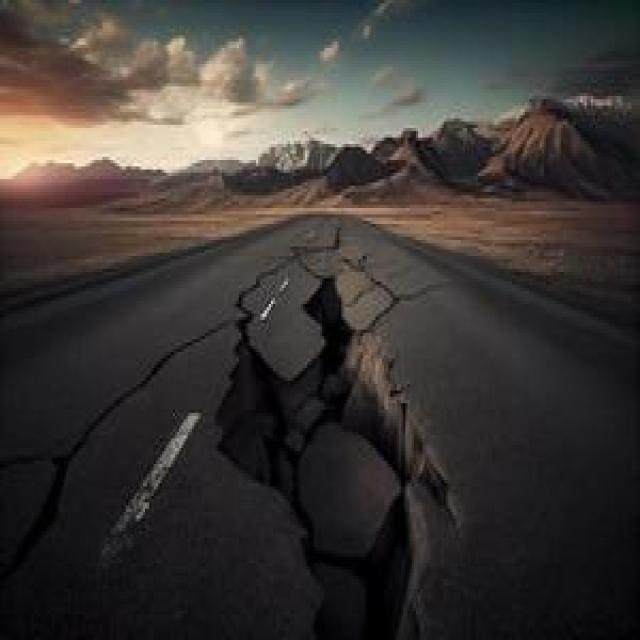road collapse: (20, 179, 590, 640)
